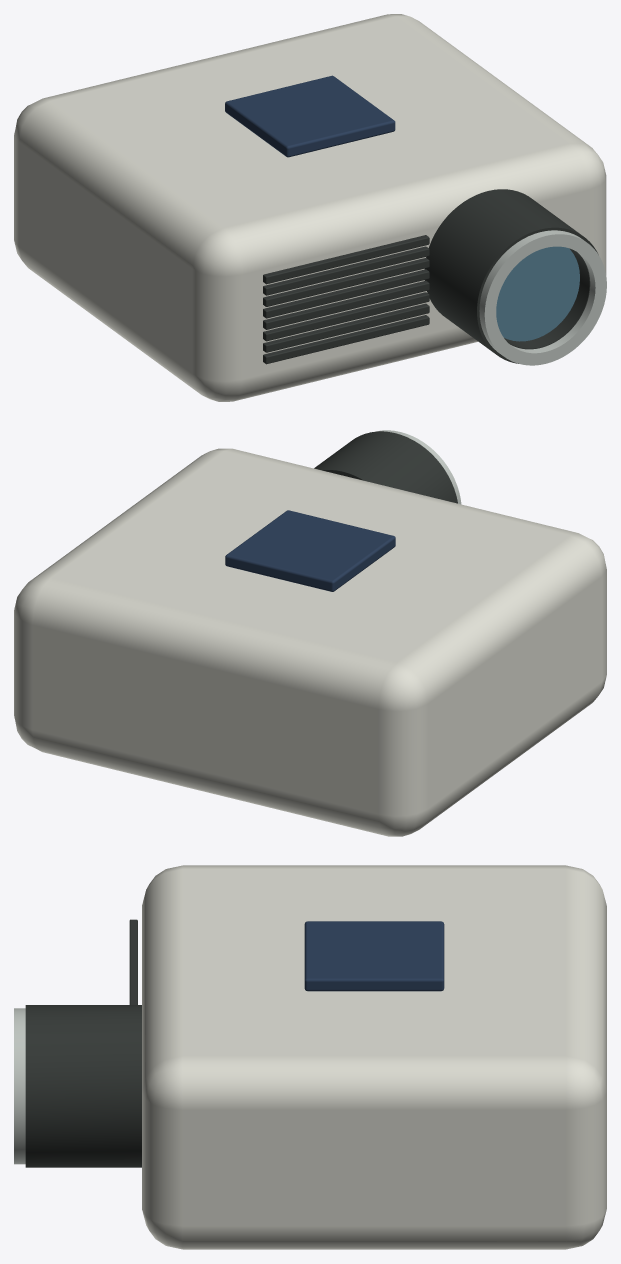
File: planetarium-and-optical-observatory-fulldome-projector-ec80957c__31829.glb
The picture shows the model from 3 angles, top to bottom: view 1: azimuth 30°, elevation 25°; view 2: azimuth 150°, elevation 25°; view 3: azimuth 270°, elevation 25°; orthographic projection. The views are drawn at different scales.
Parts seen in each view (by area): view 1: fulldome-projector; view 2: fulldome-projector; view 3: fulldome-projector.
Part boxes in pixels (x1,y1,x2,y2): fulldome-projector: (14, 14, 606, 401); fulldome-projector: (14, 430, 606, 836); fulldome-projector: (14, 865, 606, 1249).
Bounding box in the file's own units: 0.45 × 0.192 × 0.51.
